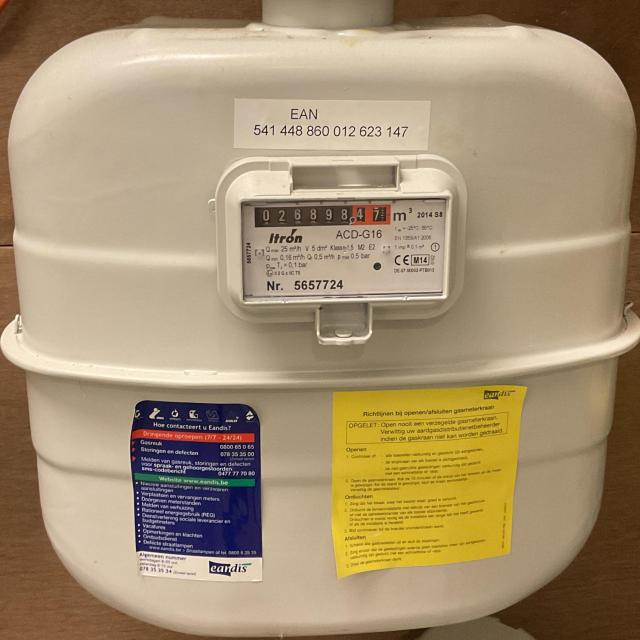gaz_meter: (242, 196, 450, 300)
indication: (252, 205, 390, 232)
